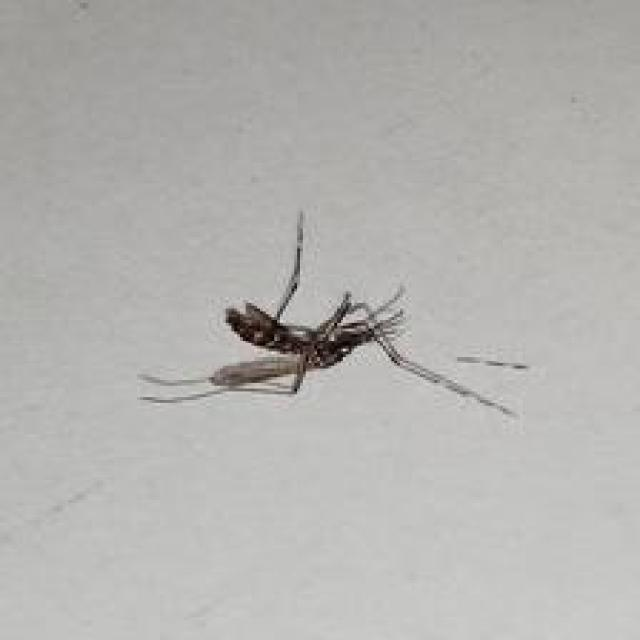Aedes albopictus: (137, 207, 529, 419)
